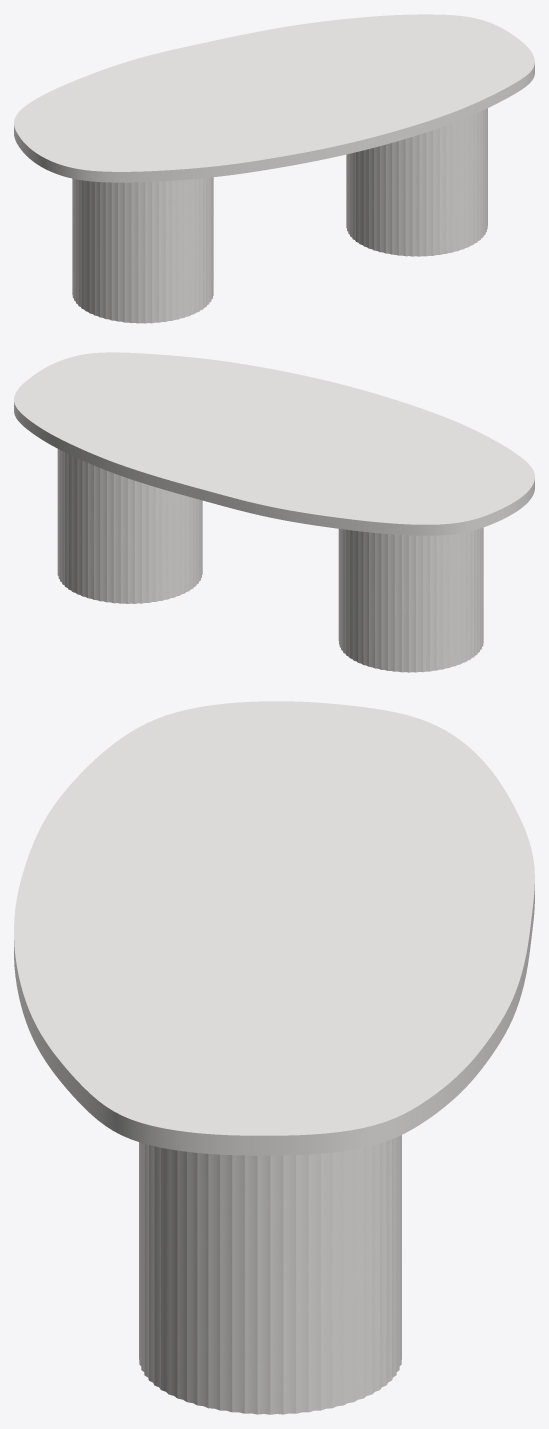
Rendered from purewhite_danish_standard_ripplesecond.glb.
The picture shows the model from 3 angles, top to bottom: view 1: azimuth 30°, elevation 25°; view 2: azimuth 150°, elevation 25°; view 3: azimuth 270°, elevation 25°; orthographic projection. The views are drawn at different scales.
Visible parts, largest first — view 1: standard_danish, ripplesecond; view 2: standard_danish, ripplesecond; view 3: standard_danish, ripplesecond.
Part boxes in pixels (x1=…): standard_danish: x1=14, y1=14, x2=534, y2=182; ripplesecond: x1=72, y1=108, x2=487, y2=323; standard_danish: x1=14, y1=352, x2=534, y2=535; ripplesecond: x1=57, y1=449, x2=483, y2=672; standard_danish: x1=14, y1=701, x2=534, y2=1155; ripplesecond: x1=139, y1=1135, x2=401, y2=1414.
Bounding box in the file's own units: 7.5 × 2.51 × 3.8.
Materials: 1 (1 with a texture image).
